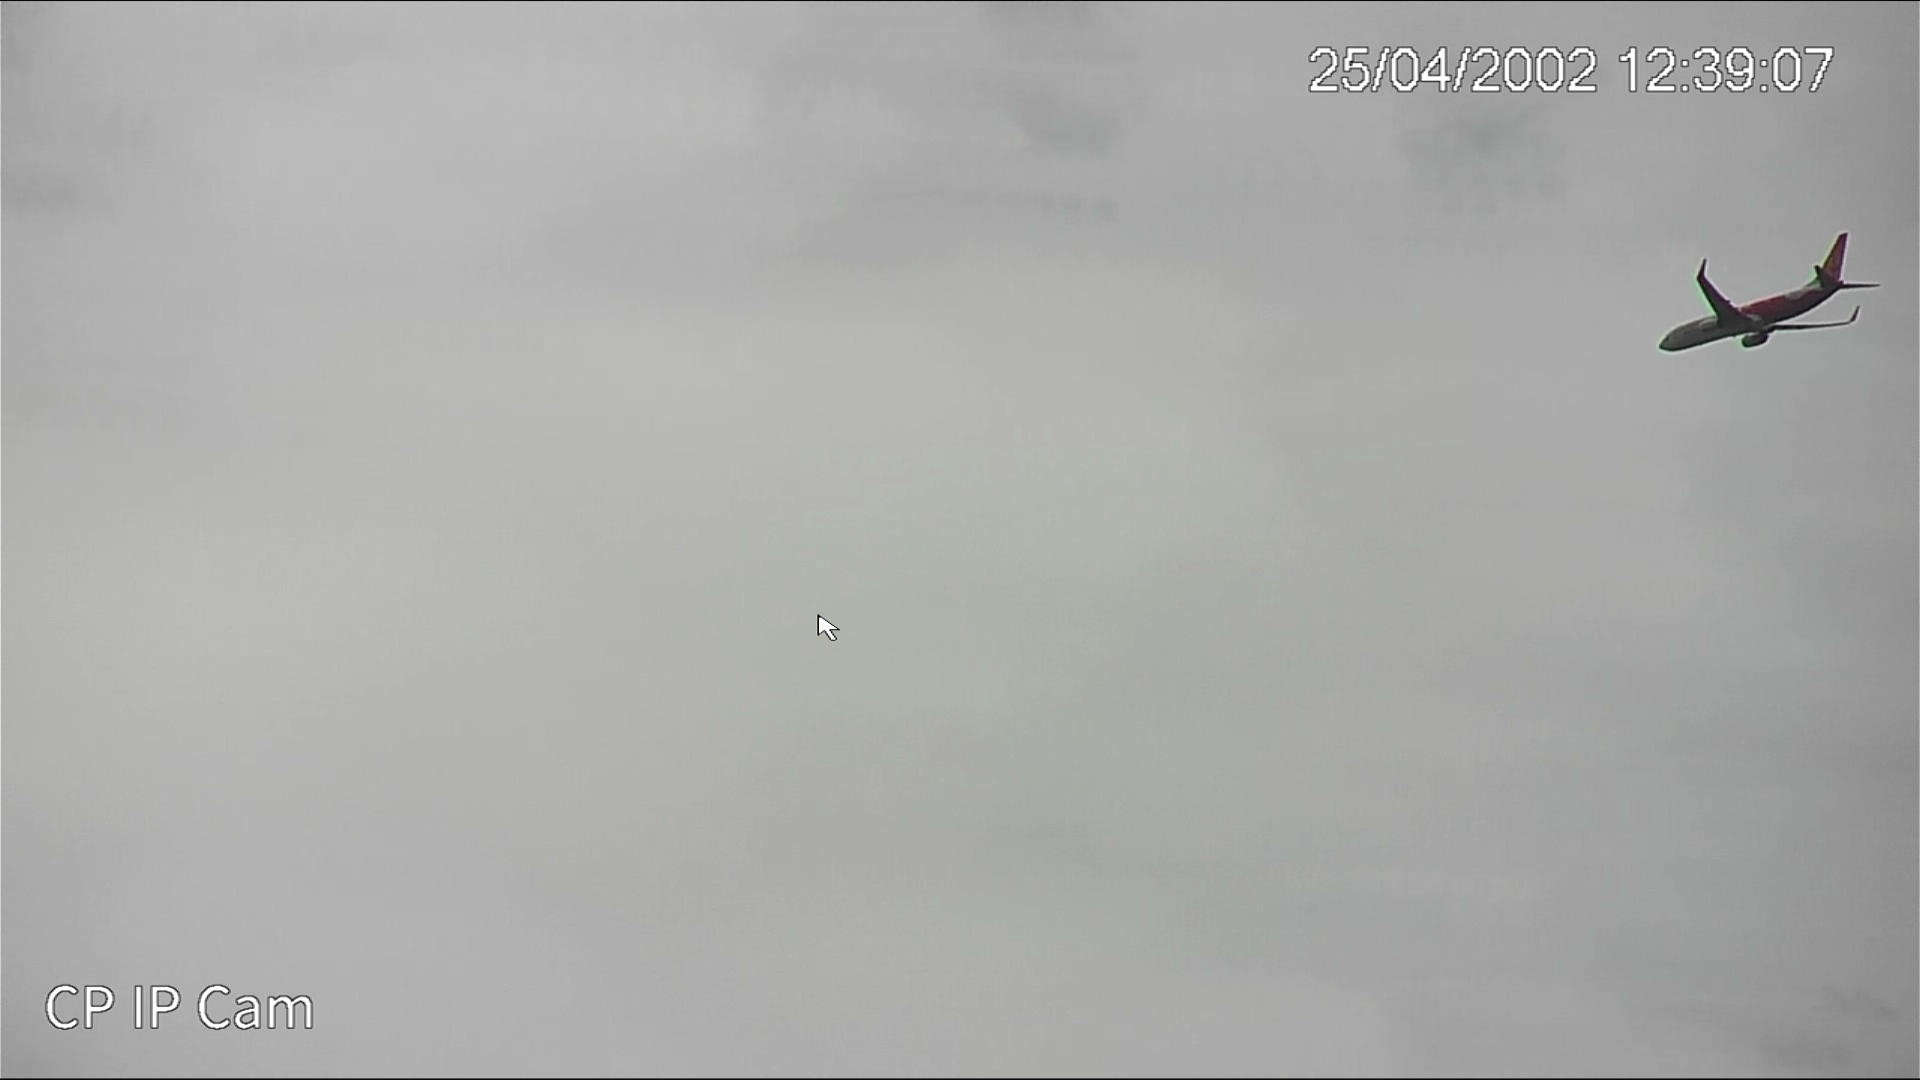SU_30: (1652, 235, 1888, 367)
